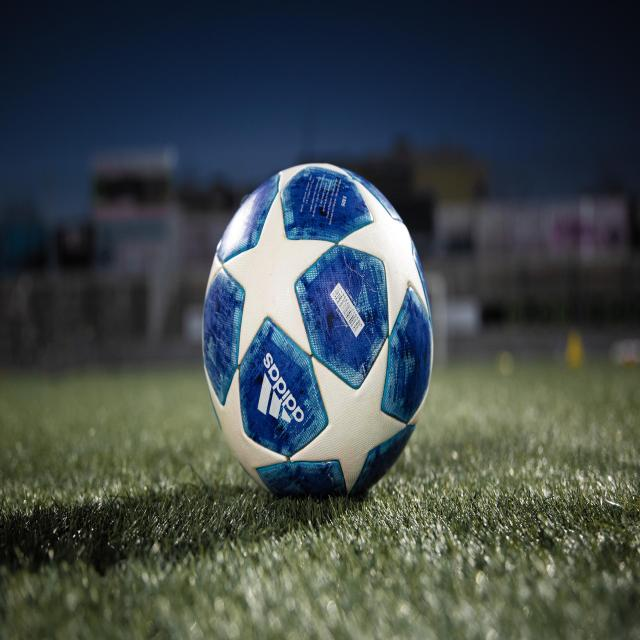Soccer Ball: (204, 163, 434, 504)
